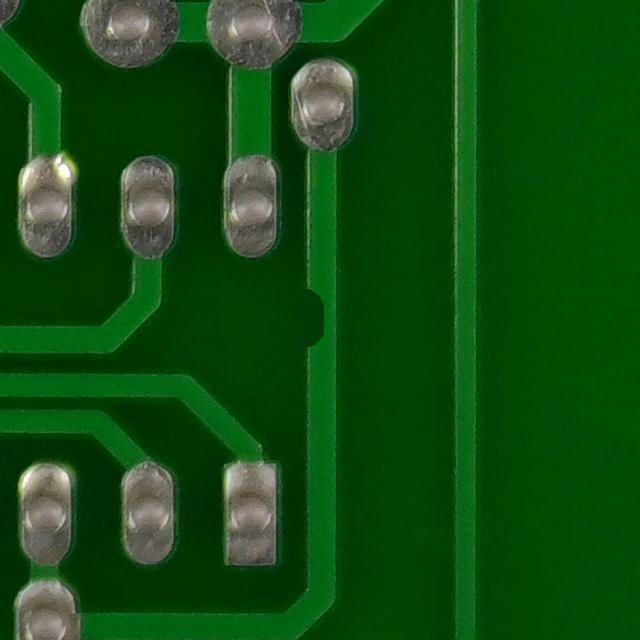mouse_bite: (293, 274, 347, 366)
